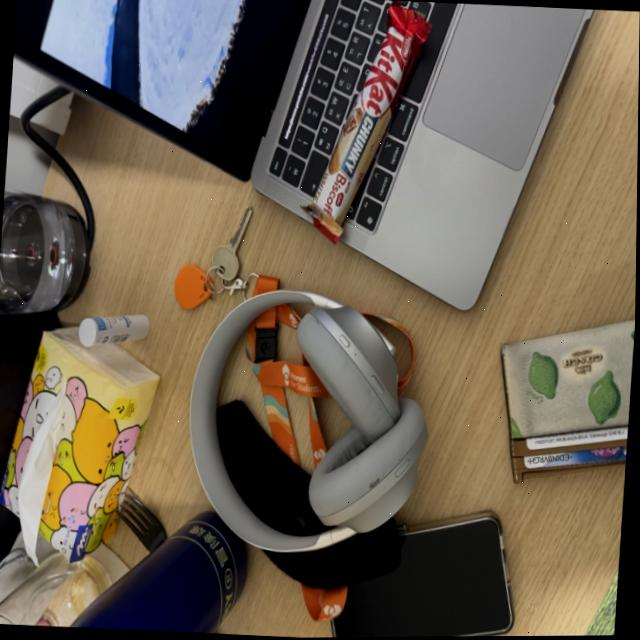chocolate: (297, 0, 435, 259)
